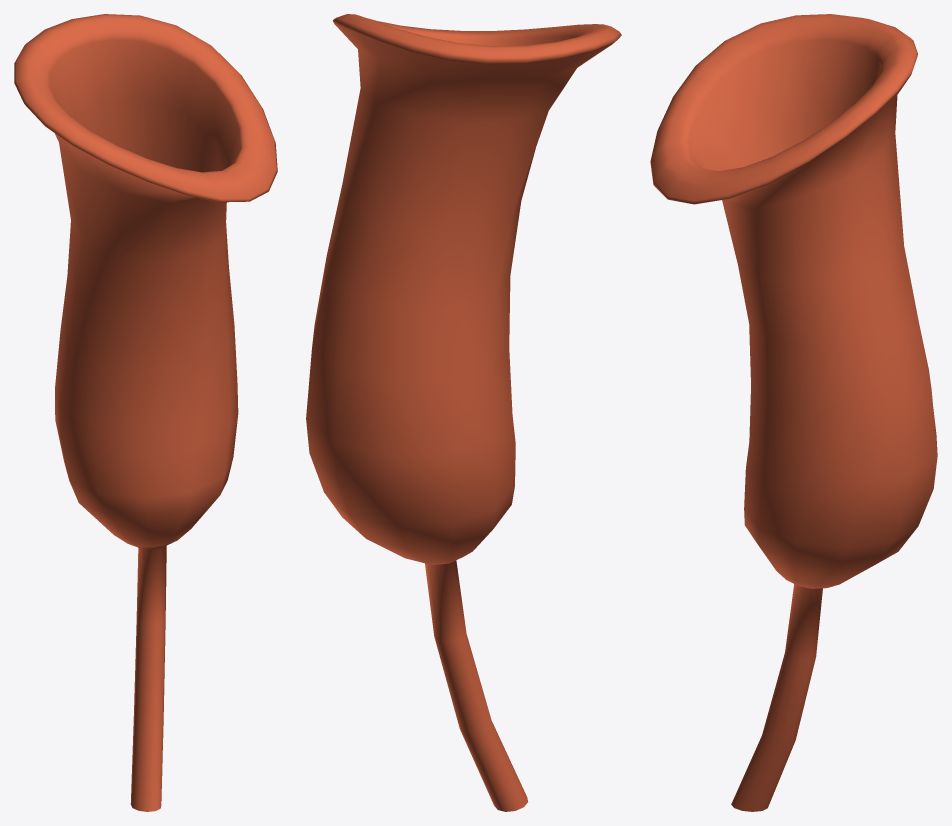
The model's file is MESH_Beach_Props_Plants_02.fbx.
The picture shows the model from 3 angles, left to right: view 1: azimuth 30°, elevation 25°; view 2: azimuth 150°, elevation 25°; view 3: azimuth 270°, elevation 25°; orthographic projection. The views are drawn at different scales.
Parts seen in each view (by area): view 1: MESH_Beach_Props_Plants_02; view 2: MESH_Beach_Props_Plants_02; view 3: MESH_Beach_Props_Plants_02.
Boxes of the visible parts, <box> form: MESH_Beach_Props_Plants_02: <box>14,14,277,811</box>; MESH_Beach_Props_Plants_02: <box>306,14,621,811</box>; MESH_Beach_Props_Plants_02: <box>650,14,937,811</box>.
Bounding box in the file's own units: 2.2 × 6.86 × 2.35.
